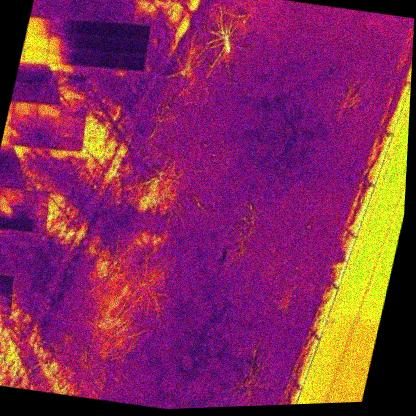Normal: (21, 45, 49, 66), (22, 31, 49, 50)
Shadow: (49, 14, 80, 37), (32, 114, 62, 136), (118, 51, 148, 73), (57, 118, 86, 140), (96, 50, 125, 72), (98, 19, 128, 40), (9, 111, 38, 132), (47, 31, 76, 52), (72, 32, 101, 53), (45, 46, 75, 66), (8, 128, 36, 149), (32, 130, 60, 151), (71, 48, 99, 69), (98, 33, 126, 54), (21, 203, 50, 223), (59, 104, 88, 124), (74, 18, 101, 39), (11, 98, 39, 118), (122, 35, 149, 55), (26, 16, 53, 36), (35, 102, 63, 121), (0, 198, 26, 218), (24, 188, 50, 208), (0, 184, 26, 204), (56, 134, 83, 153), (125, 21, 151, 40), (20, 218, 47, 235), (0, 214, 24, 232), (0, 284, 14, 303), (0, 271, 13, 289), (0, 298, 13, 316)
